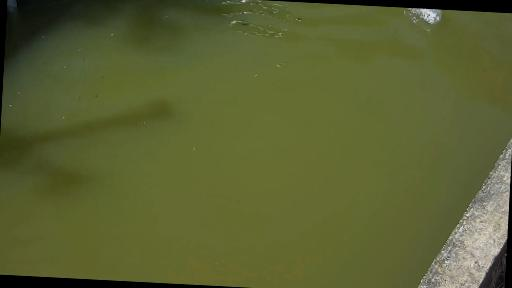plastic: (387, 6, 444, 26)
